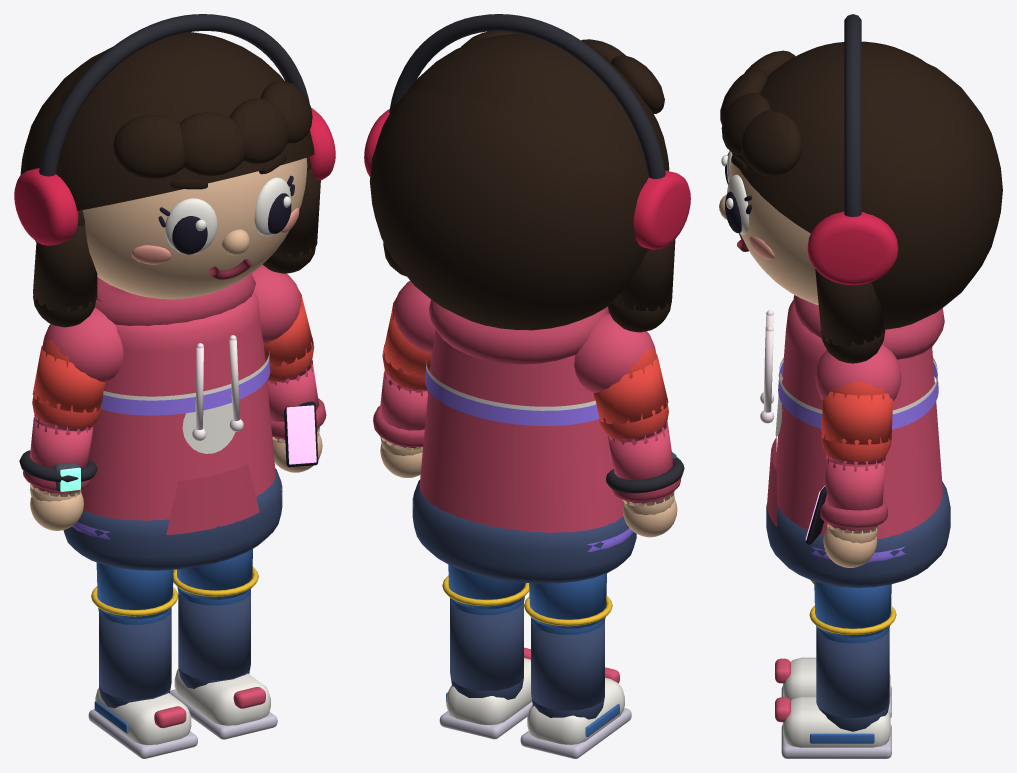
File: ch_hero_f_1.fbx
The picture shows the model from 3 angles, left to right: view 1: azimuth 30°, elevation 25°; view 2: azimuth 150°, elevation 25°; view 3: azimuth 270°, elevation 25°; orthographic projection.
Parts seen in each view (by area): view 1: ch_hero_f_1__base, ch_hero_f_1__top_default, ch_hero_f_1__pants_default, ch_hero_f_1__acc_headphones, ch_hero_f_1__shoes_default, ch_hero_f_1__top_tshirt, ch_hero_f_1__pants_jeans, ch_hero_f_1__top_hoodie, ch_hero_f_1__acc_smartphone, ch_hero_f_1__acc_watch; view 2: ch_hero_f_1__base, ch_hero_f_1__top_default, ch_hero_f_1__pants_default, ch_hero_f_1__acc_headphones, ch_hero_f_1__top_tshirt, ch_hero_f_1__shoes_default, ch_hero_f_1__pants_jeans, ch_hero_f_1__top_hoodie, ch_hero_f_1__acc_watch; view 3: ch_hero_f_1__base, ch_hero_f_1__top_default, ch_hero_f_1__pants_default, ch_hero_f_1__acc_headphones, ch_hero_f_1__shoes_default, ch_hero_f_1__top_tshirt, ch_hero_f_1__pants_jeans, ch_hero_f_1__top_hoodie, ch_hero_f_1__shoes_sneakers, ch_hero_f_1__acc_smartphone.
Boxes of the visible parts, x1,y1,x2,y2 form: ch_hero_f_1__base: (20,32,322,530); ch_hero_f_1__top_default: (23,264,326,534); ch_hero_f_1__pants_default: (63,468,282,708); ch_hero_f_1__acc_headphones: (14,14,335,245); ch_hero_f_1__shoes_default: (88,668,277,758); ch_hero_f_1__top_tshirt: (30,289,319,501); ch_hero_f_1__pants_jeans: (91,549,258,624); ch_hero_f_1__top_hoodie: (72,351,282,539); ch_hero_f_1__acc_smartphone: (284,401,318,467); ch_hero_f_1__acc_watch: (19,450,97,491); ch_hero_f_1__base: (369,31,677,537); ch_hero_f_1__top_default: (373,281,681,532); ch_hero_f_1__pants_default: (412,480,636,719); ch_hero_f_1__acc_headphones: (364,14,690,249); ch_hero_f_1__top_tshirt: (380,297,674,515); ch_hero_f_1__shoes_default: (439,647,631,758); ch_hero_f_1__pants_jeans: (442,564,612,634); ch_hero_f_1__top_hoodie: (412,360,633,551); ch_hero_f_1__acc_watch: (606,451,684,493); ch_hero_f_1__base: (719,41,1002,567); ch_hero_f_1__top_default: (760,295,944,538); ch_hero_f_1__pants_default: (766,481,950,731); ch_hero_f_1__acc_headphones: (807,14,898,285); ch_hero_f_1__shoes_default: (775,657,891,758); ch_hero_f_1__top_tshirt: (775,373,892,543); ch_hero_f_1__pants_jeans: (809,580,896,643); ch_hero_f_1__top_hoodie: (778,357,938,562); ch_hero_f_1__shoes_sneakers: (810,733,874,743); ch_hero_f_1__acc_smartphone: (805,485,826,544).
Size of the model in its own units: 0.6345 by 1.43 by 0.5272.
